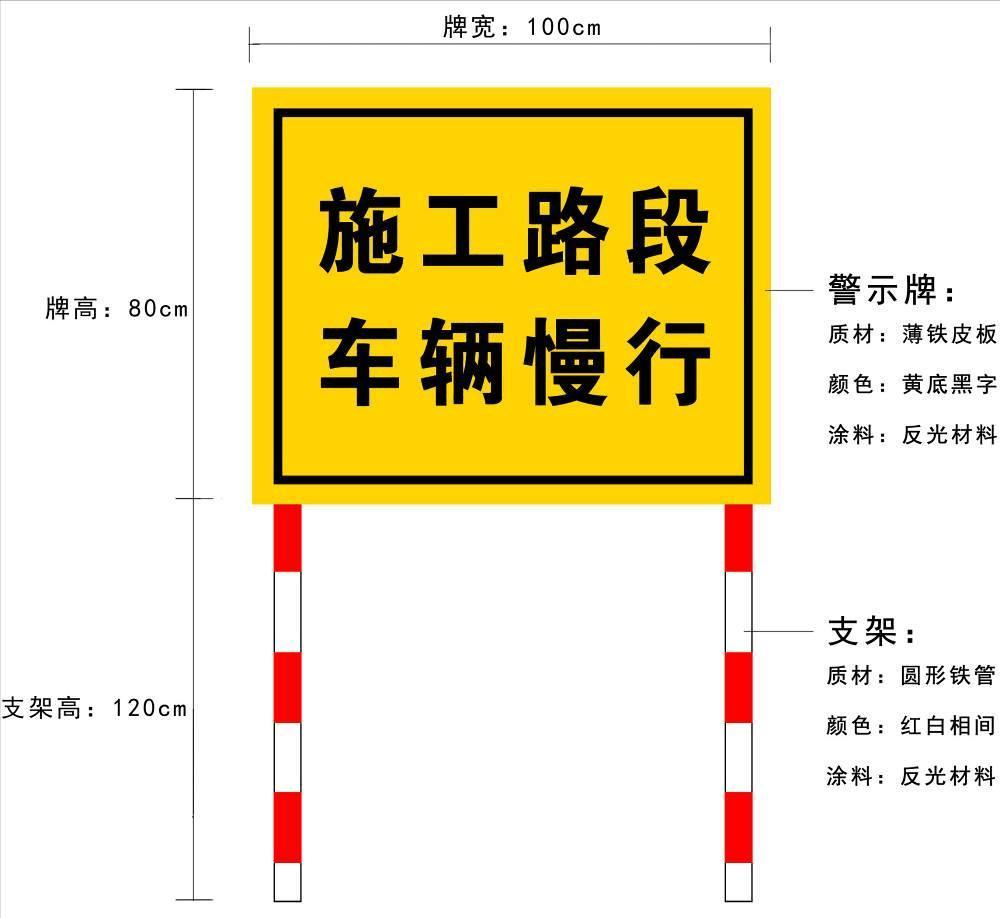sign: (250, 89, 776, 900)
